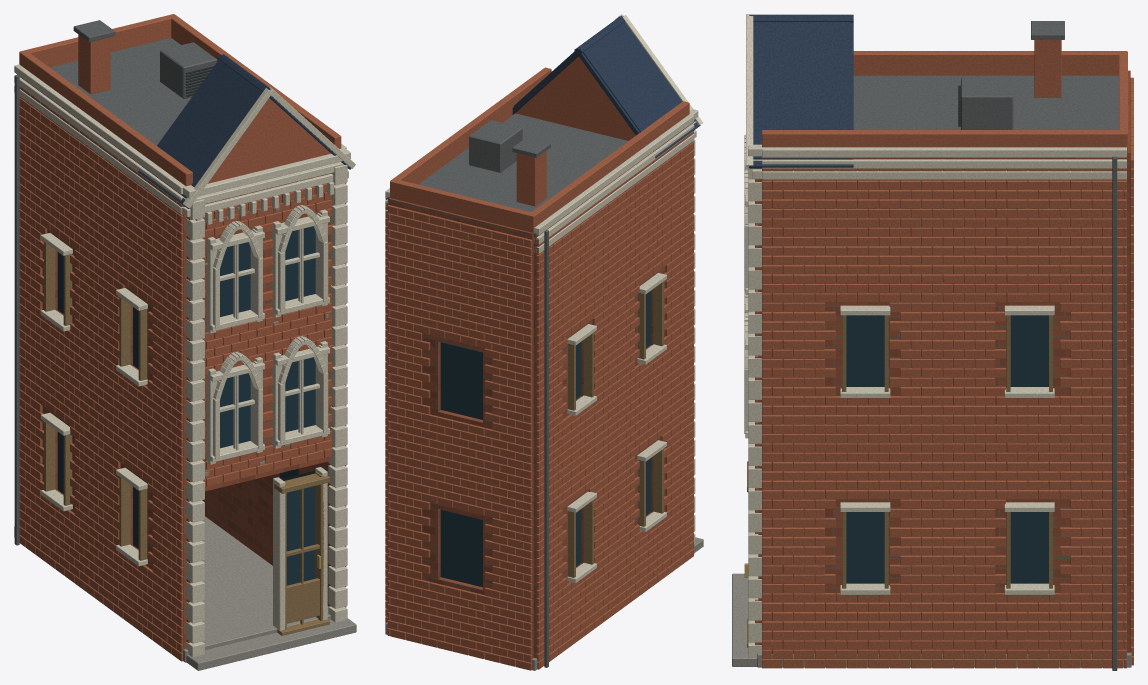
The model's file is VICT34_lod0.glb.
3 views of the same model, side by side, from view 1: azimuth 30°, elevation 25°; view 2: azimuth 150°, elevation 25°; view 3: azimuth 270°, elevation 25° (orthographic). The views are drawn at different scales.
Visible parts, largest first — view 1: VICT34_LOD0; view 2: VICT34_LOD0; view 3: VICT34_LOD0.
Part boxes in pixels (box(x1,y1,x2,y2)): VICT34_LOD0: box(14, 14, 356, 670); VICT34_LOD0: box(385, 14, 703, 670); VICT34_LOD0: box(732, 14, 1133, 670).
Size of the model in its own units: 3.71 by 11.05 by 6.6.
13 materials, 10 textured.
